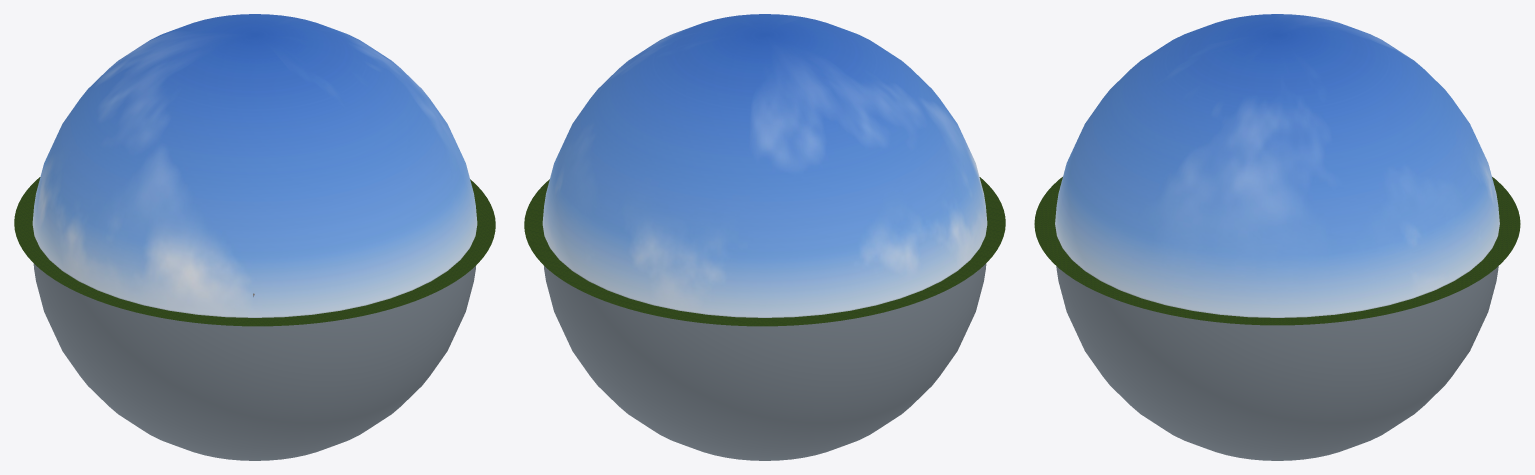
File: stadium.glb
3 renders of one model, left to right at view 1: azimuth 30°, elevation 25°; view 2: azimuth 150°, elevation 25°; view 3: azimuth 270°, elevation 25°, orthographic.
Parts seen in each view (by area): view 1: sky_day, surroundings; view 2: sky_day, surroundings; view 3: sky_day, surroundings.
Part boxes in pixels (x1,y1,x2,y2): sky_day: [32, 14, 477, 460]; surroundings: [14, 177, 495, 326]; sky_day: [542, 14, 987, 460]; surroundings: [524, 177, 1005, 326]; sky_day: [1055, 14, 1499, 460]; surroundings: [1034, 177, 1520, 325].
Size of the model in its own units: 966 by 900 by 978.
Materials: 36 (22 with a texture image).
